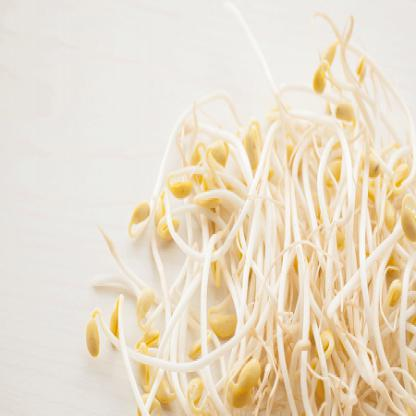bean sprouts: (136, 74, 415, 414)
